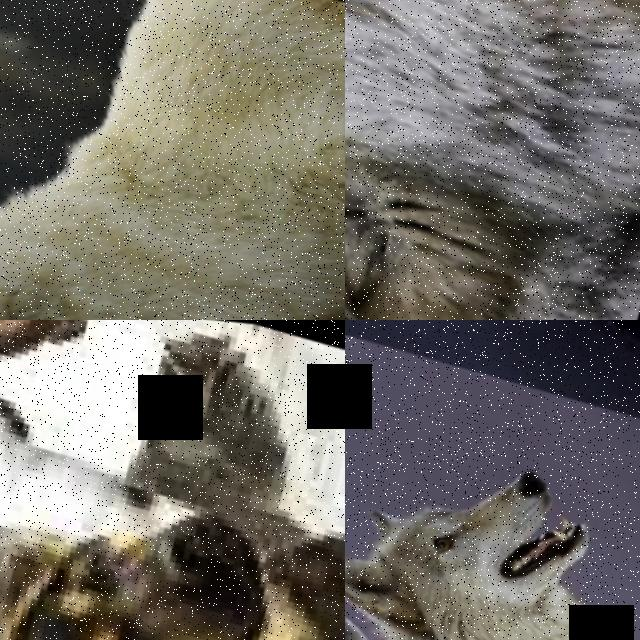dog: (0, 324, 345, 640), (0, 320, 180, 411)
wolf: (0, 0, 345, 320), (345, 0, 640, 320), (345, 397, 640, 640), (345, 320, 640, 511), (345, 486, 640, 640)
